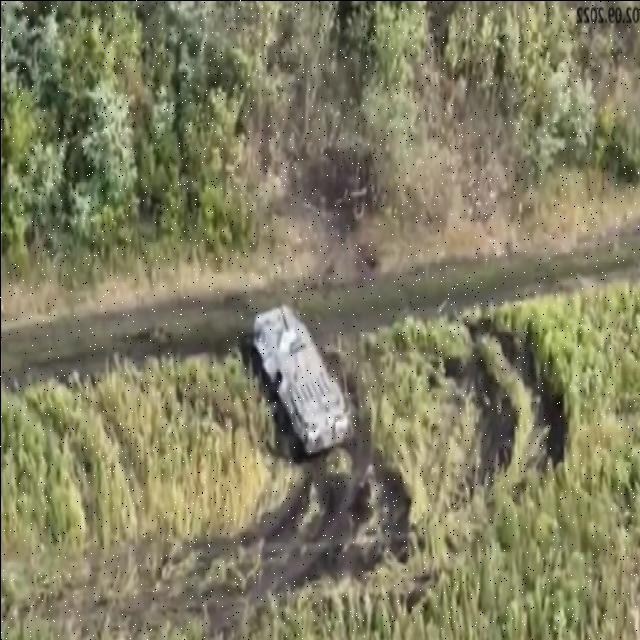APC-IFV: (248, 298, 354, 456)
